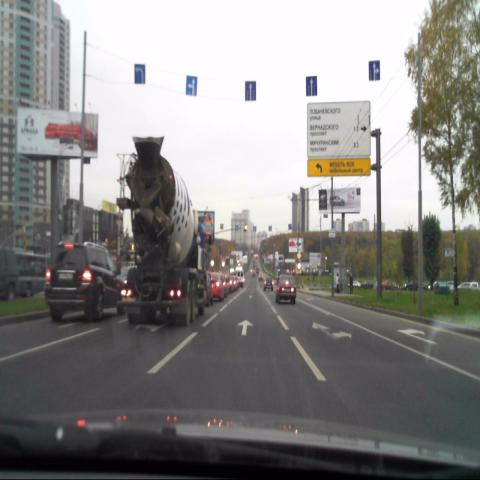5_15_2: (186, 76, 198, 97), (368, 60, 380, 80), (245, 81, 256, 102), (134, 64, 145, 84), (306, 76, 317, 96)
